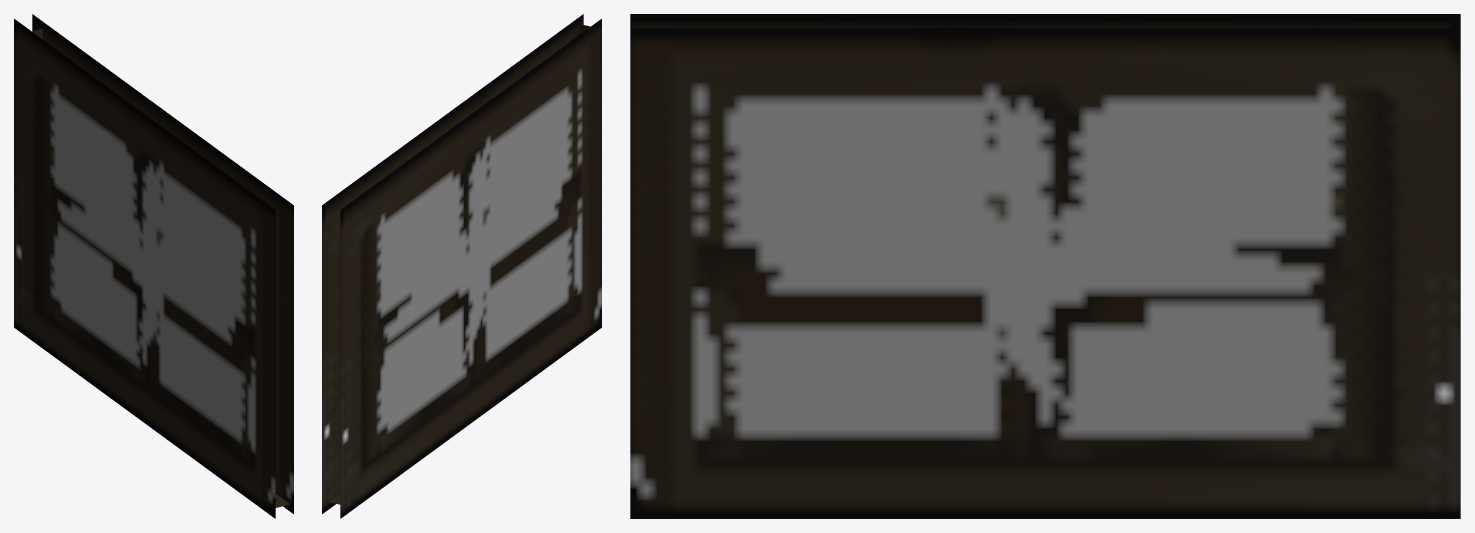
The model's file is pz_native_fixtures_windows_01_6_frame.obj.
The picture shows the model from 3 angles, left to right: view 1: azimuth 30°, elevation 25°; view 2: azimuth 150°, elevation 25°; view 3: azimuth 270°, elevation 25°; orthographic projection. The views are drawn at different scales.
Visible parts, largest first — view 1: pz_native_fixtures_windows_01_6_frame; view 2: pz_native_fixtures_windows_01_6_frame; view 3: pz_native_fixtures_windows_01_6_frame.
Boxes of the visible parts, left/top/right/bottom form: pz_native_fixtures_windows_01_6_frame: left=14, top=14, right=293, bottom=518; pz_native_fixtures_windows_01_6_frame: left=322, top=14, right=601, bottom=518; pz_native_fixtures_windows_01_6_frame: left=630, top=14, right=1460, bottom=518.
Size of the model in its own units: 0.04 by 0.6406 by 0.9823.
Materials: 1 (1 with a texture image).
